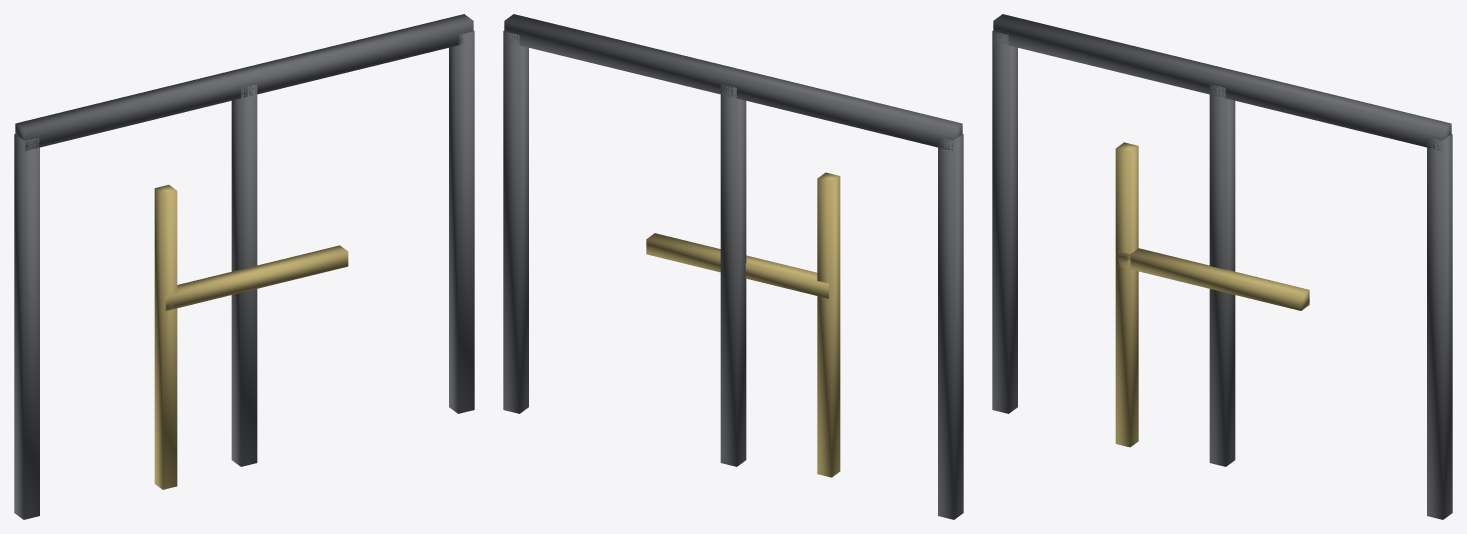
Rendered from industrial_gate_l120_h100.glb.
3 views of the same model, side by side, from view 1: azimuth 30°, elevation 25°; view 2: azimuth 150°, elevation 25°; view 3: azimuth 330°, elevation 25° (orthographic).
Parts seen in each view (by area): view 1: world; view 2: world; view 3: world.
Boxes of the visible parts, x1,y1,x2,y2 form: world: (14, 14, 474, 519); world: (503, 14, 963, 519); world: (992, 14, 1452, 519).
Size of the model in its own units: 1.25 by 1.03 by 0.0825.
